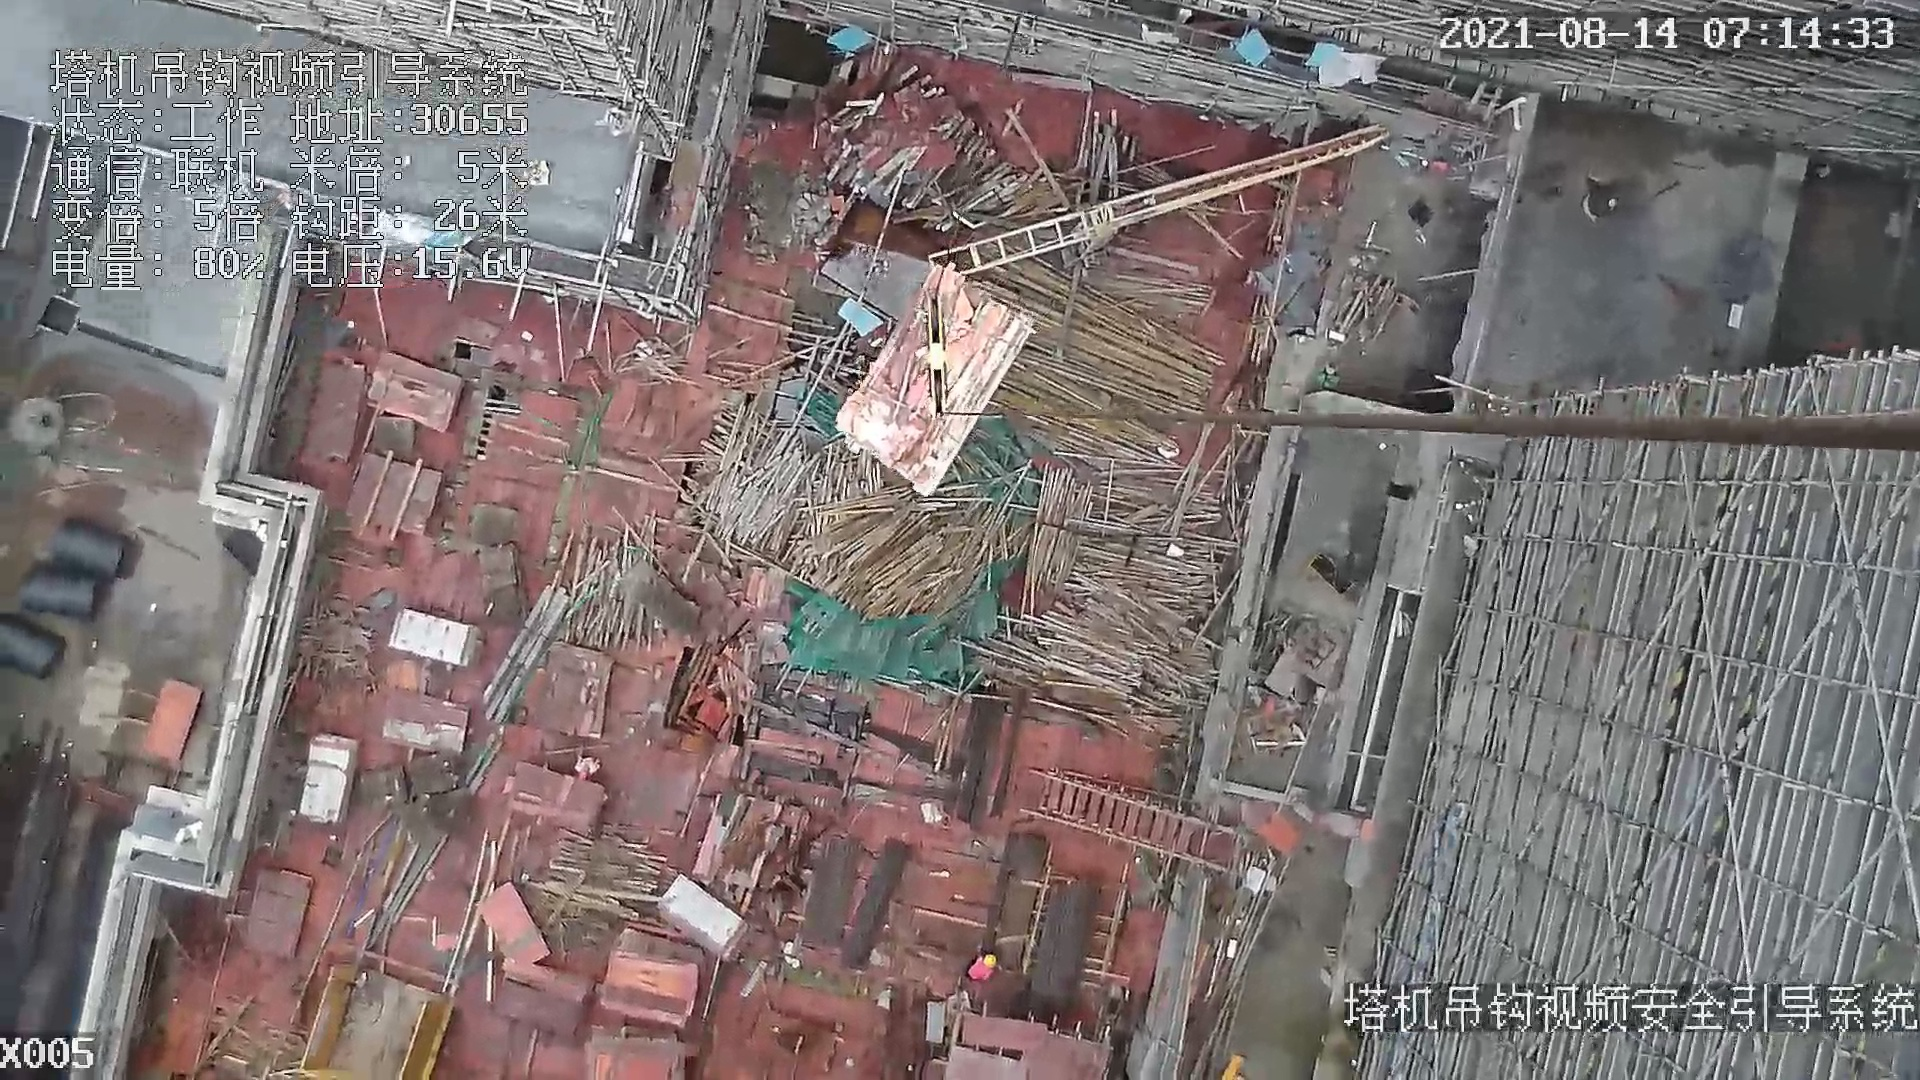hook: (914, 295, 956, 423)
